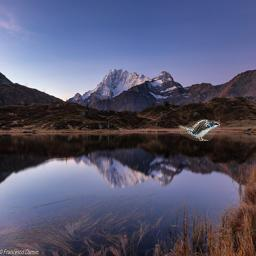Swallow: (178, 119, 220, 141)
